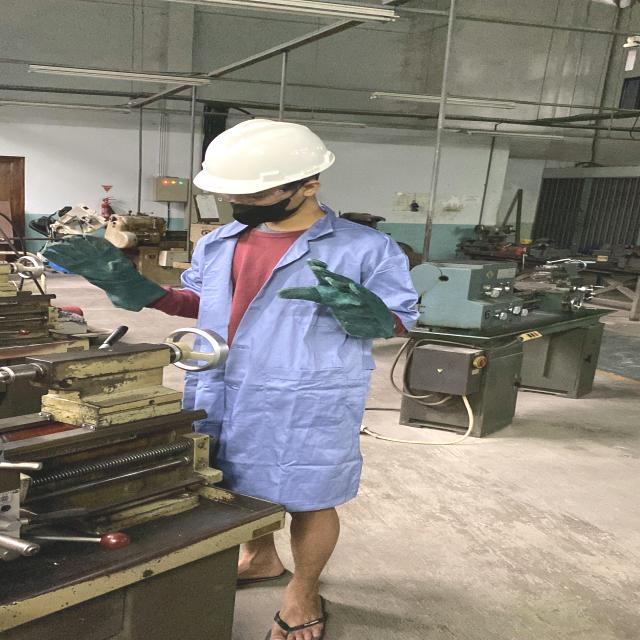face_mask: (210, 183, 300, 230)
glasses: (217, 186, 293, 206)
hand_glove: (272, 255, 386, 317), (39, 233, 136, 280)
head_helmet: (190, 118, 339, 195)
person: (43, 115, 428, 640)
